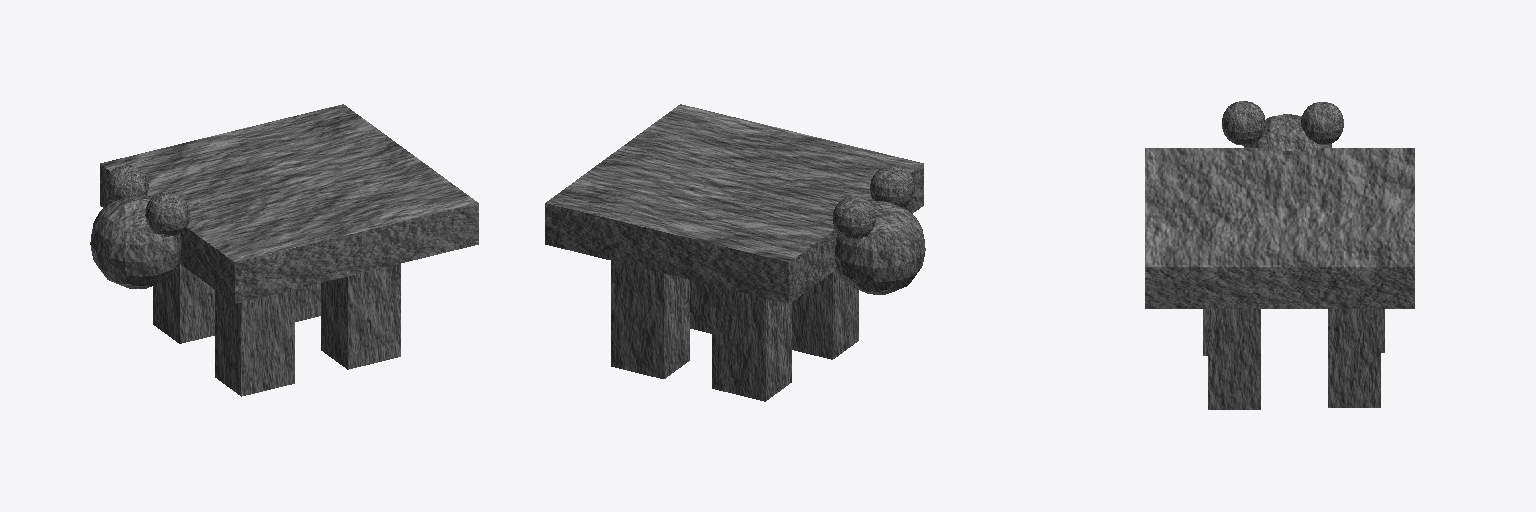
3 renders of one model, left to right at view 1: azimuth 30°, elevation 25°; view 2: azimuth 150°, elevation 25°; view 3: azimuth 270°, elevation 25°, orthographic.
Parts seen in each view (by area): view 1: Cube, Cube.001; view 2: Cube, Cube.001; view 3: Cube, Cube.001.
Boxes of the visible parts, x1,y1,x2,y2 form: Cube: [100, 104, 478, 396]; Cube.001: [90, 165, 189, 288]; Cube: [545, 104, 923, 401]; Cube.001: [833, 165, 925, 294]; Cube: [1145, 148, 1414, 409]; Cube.001: [1222, 101, 1343, 150].
Size of the model in its own units: 5.73 by 3.56 by 4.32.
Materials: 1 (1 with a texture image).